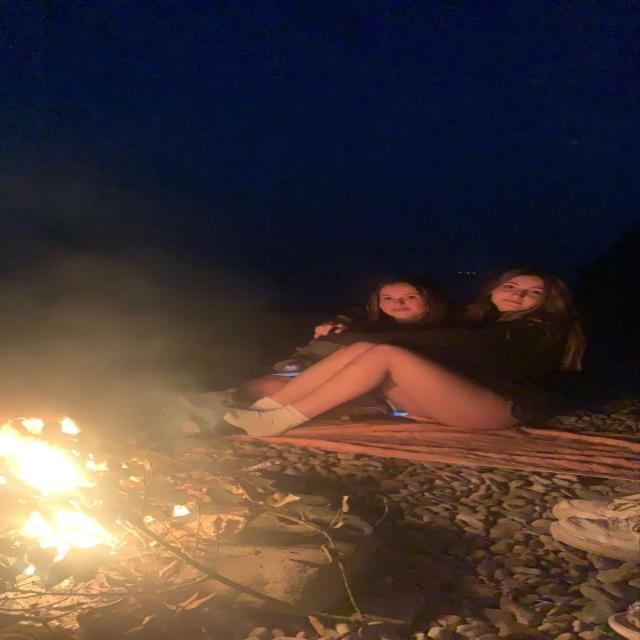fire: (0, 420, 101, 493), (16, 504, 120, 557)
